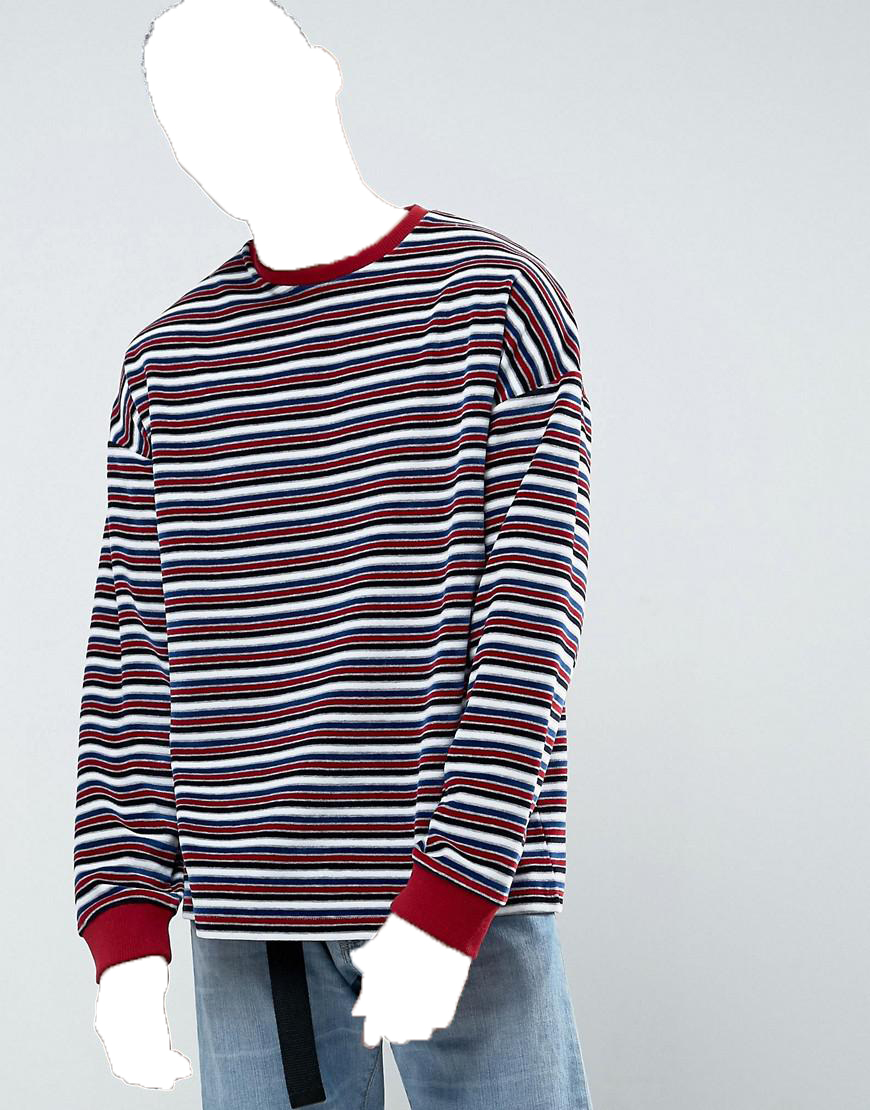teeshirt: (62, 203, 593, 942)
